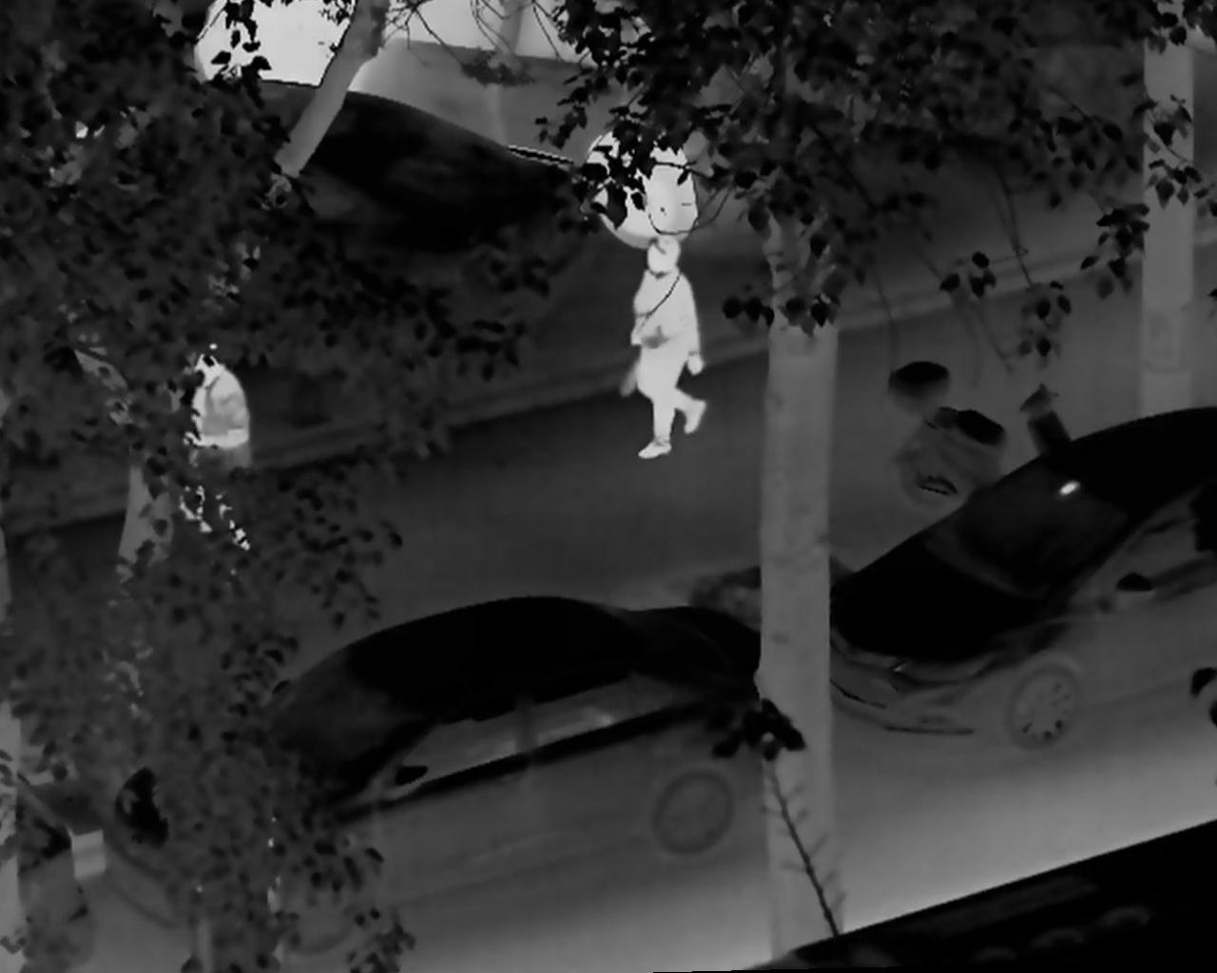person: (618, 235, 712, 464), (177, 340, 256, 569)
